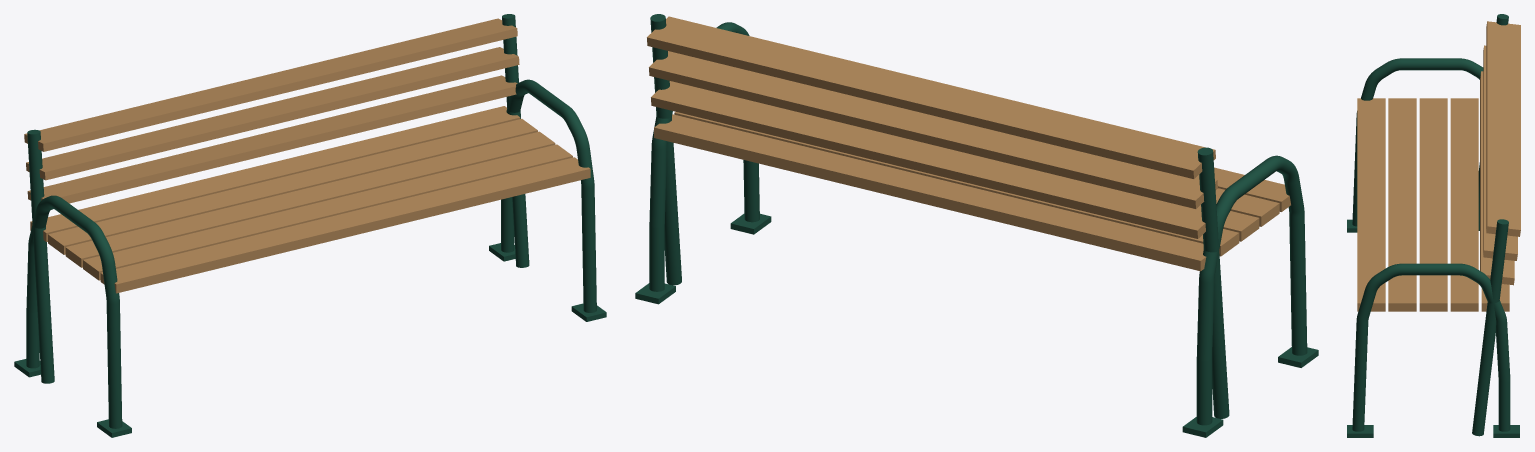
File: park_bench.glb
3 renders of one model, left to right at view 1: azimuth 30°, elevation 25°; view 2: azimuth 150°, elevation 25°; view 3: azimuth 270°, elevation 25°, orthographic. The views are drawn at different scales.
Visible parts, largest first — view 1: seat_slat.001, back_slat_2, back_slat_1, back_slat_0, arm_loop, seat_slat.002, seat_slat.003, seat_slat.004, seat_slat.005, arm_loop.001; view 2: back_slat_2, back_slat_1, back_slat_0, seat_slat.005, arm_loop, arm_loop.001, seat_slat.004, seat_slat.001, seat_slat.002, seat_slat.003; view 3: arm_loop.001, back_slat_2, seat_slat.003, seat_slat.002, seat_slat.004, seat_slat.001, arm_loop, back_slat_1, back_slat_0, seat_slat.005, foot_pad.003, foot_pad.004.
Boxes of the visible parts, <box> form: seat_slat.001: <box>100,157,590,293</box>; back_slat_2: <box>24,18,517,151</box>; back_slat_1: <box>26,47,519,180</box>; back_slat_0: <box>27,75,517,203</box>; arm_loop: <box>26,129,122,428</box>; seat_slat.002: <box>83,144,572,280</box>; seat_slat.003: <box>65,131,555,267</box>; seat_slat.004: <box>48,119,537,254</box>; seat_slat.005: <box>30,106,520,241</box>; arm_loop.001: <box>501,14,596,312</box>; back_slat_2: <box>647,16,1215,178</box>; back_slat_1: <box>649,51,1217,208</box>; back_slat_0: <box>651,81,1205,238</box>; seat_slat.005: <box>654,114,1206,271</box>; arm_loop: <box>1196,147,1307,425</box>; arm_loop.001: <box>649,14,759,291</box>; seat_slat.004: <box>674,112,1239,256</box>; seat_slat.001: <box>1199,167,1290,211</box>; seat_slat.002: <box>1215,188,1279,226</box>; seat_slat.003: <box>1223,211,1259,241</box>; arm_loop.001: <box>1352,219,1510,436</box>; back_slat_2: <box>1486,21,1520,236</box>; seat_slat.003: <box>1419,98,1447,311</box>; seat_slat.002: <box>1388,98,1416,311</box>; seat_slat.004: <box>1450,98,1478,311</box>; seat_slat.001: <box>1357,98,1385,311</box>; arm_loop: <box>1352,14,1508,230</box>; back_slat_1: <box>1483,45,1517,260</box>; back_slat_0: <box>1480,71,1514,285</box>; seat_slat.005: <box>1481,284,1509,311</box>; foot_pad.003: <box>1347,425,1373,437</box>; foot_pad.004: <box>1493,425,1519,437</box>.
Size of the model in its own units: 1.71 by 0.7943 by 0.5878.
